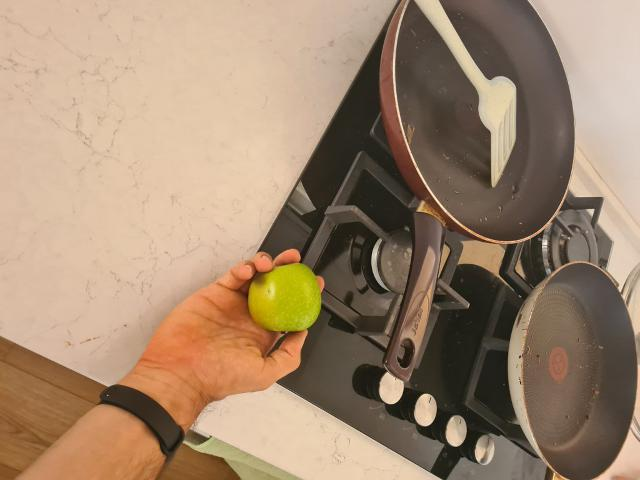apple: (235, 253, 321, 338)
